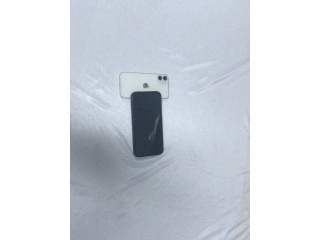phone: (131, 91, 164, 158), (120, 70, 170, 99)
